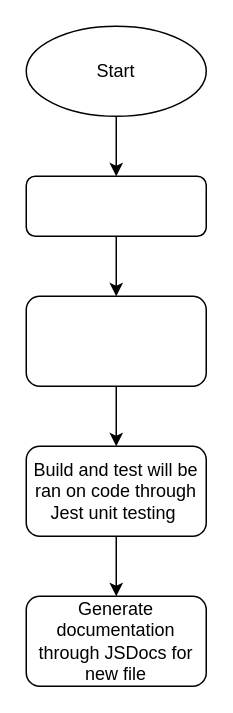
Image size: 233x713. Some labels were removed from this diagram. Each missing label, with the centre of its shape:
Lint will deploy to check for style: (x=115, y=340)
new javascript file: (x=115, y=205)
